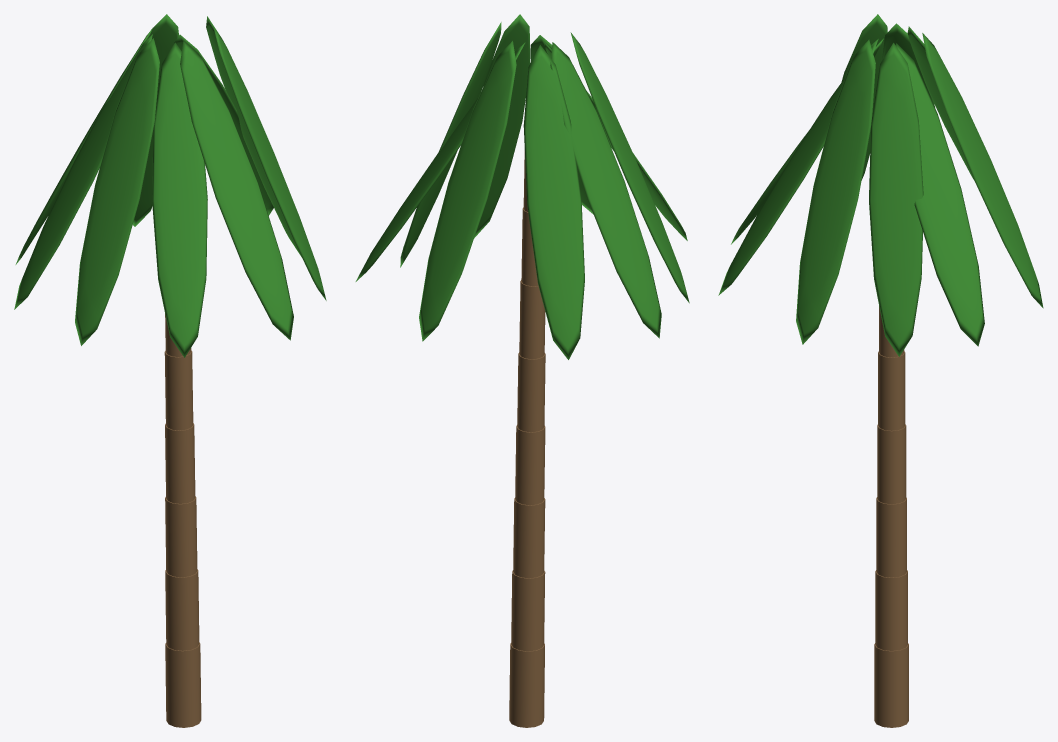
Rendered from CoastalPalm.fbx.
The picture shows the model from 3 angles, left to right: view 1: azimuth 30°, elevation 25°; view 2: azimuth 150°, elevation 25°; view 3: azimuth 270°, elevation 25°; orthographic projection.
Visible parts, largest first — view 1: CoastalPalmMesh; view 2: CoastalPalmMesh; view 3: CoastalPalmMesh.
Part boxes in pixels (box(x1,y1,x2,y2)): CoastalPalmMesh: box(14, 14, 326, 727); CoastalPalmMesh: box(355, 14, 689, 727); CoastalPalmMesh: box(718, 14, 1043, 727).
Size of the model in its own units: 4.06 by 9.65 by 4.12.
